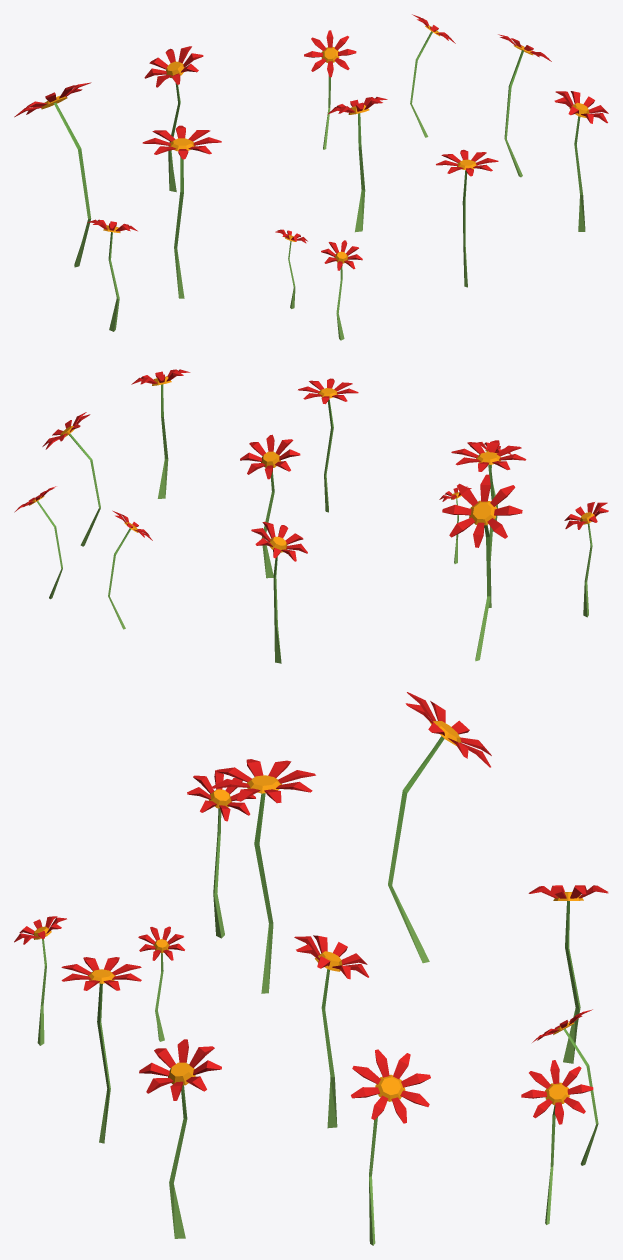
File: flower_red.glb
The picture shows the model from 3 angles, top to bottom: view 1: azimuth 30°, elevation 25°; view 2: azimuth 150°, elevation 25°; view 3: azimuth 270°, elevation 25°; orthographic projection. The views are drawn at different scales.
Visible parts, largest first — view 1: Flower 4_4_C; view 2: Flower 4_4_C; view 3: Flower 4_4_C.
Boxes of the visible parts, x1,y1,x2,y2 form: Flower 4_4_C: [14, 14, 608, 340]; Flower 4_4_C: [14, 369, 608, 663]; Flower 4_4_C: [14, 692, 608, 1245].
Size of the model in its own units: 0.608 by 0.2108 by 0.4459.
Materials: 1 (1 with a texture image).
